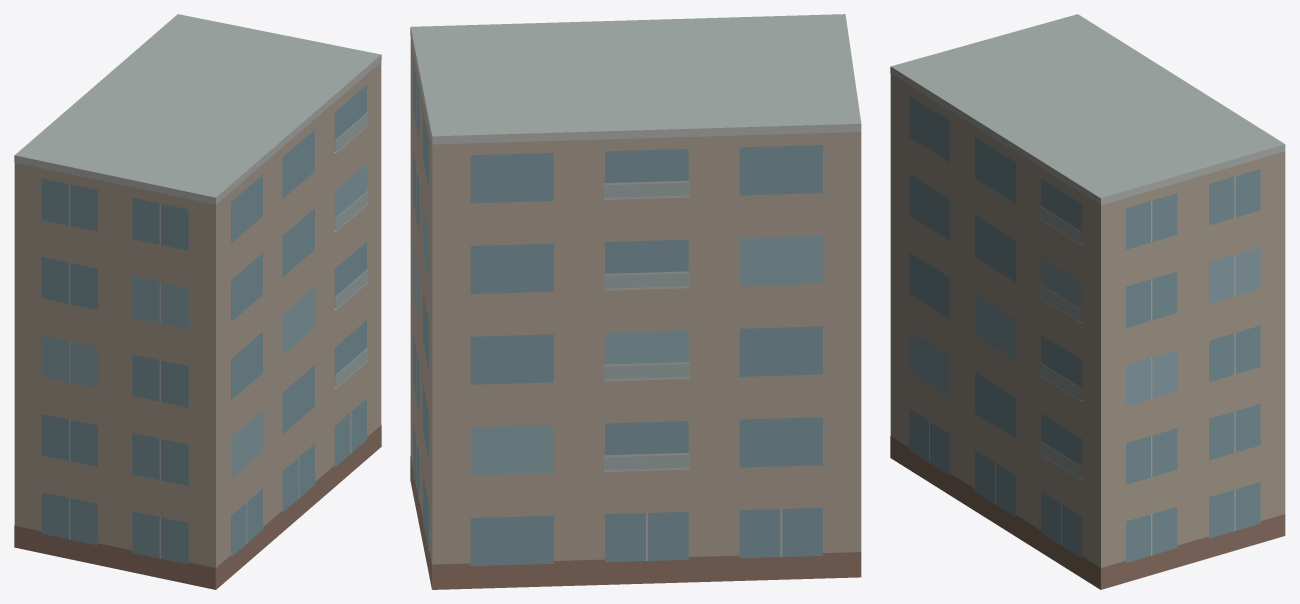
The model's file is survey-upis-33031040.glb.
The picture shows the model from 3 angles, left to right: view 1: azimuth 30°, elevation 25°; view 2: azimuth 150°, elevation 25°; view 3: azimuth 270°, elevation 25°; orthographic projection. The views are drawn at different scales.
Parts seen in each view (by area): view 1: survey-upis-33031040.tmp; view 2: survey-upis-33031040.tmp; view 3: survey-upis-33031040.tmp.
Boxes of the visible parts, x1,y1,x2,y2 form: survey-upis-33031040.tmp: [14, 14, 381, 589]; survey-upis-33031040.tmp: [410, 14, 861, 589]; survey-upis-33031040.tmp: [890, 14, 1285, 589].
Bounding box in the file's own units: 13.69 × 13.55 × 12.39.
